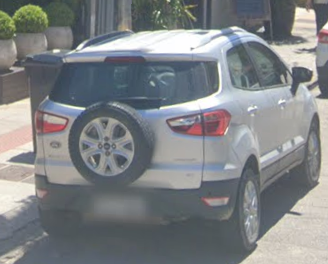car: (31, 26, 322, 248)
